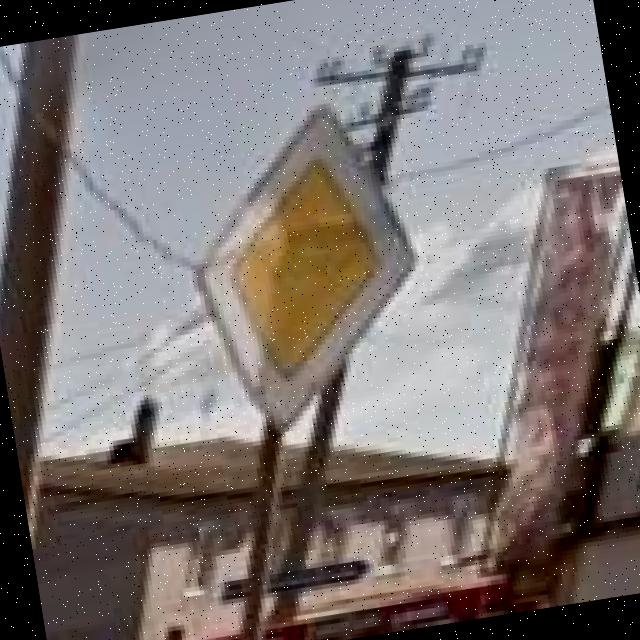Droga z pierwszenstwem: (168, 94, 442, 442)
